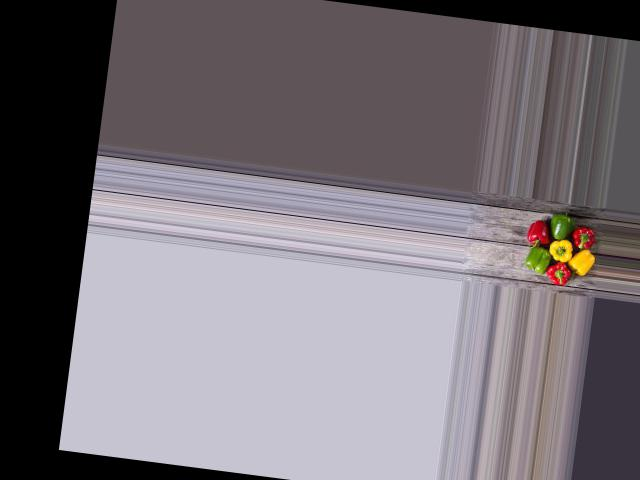bell_pepper: (570, 225, 601, 255)
